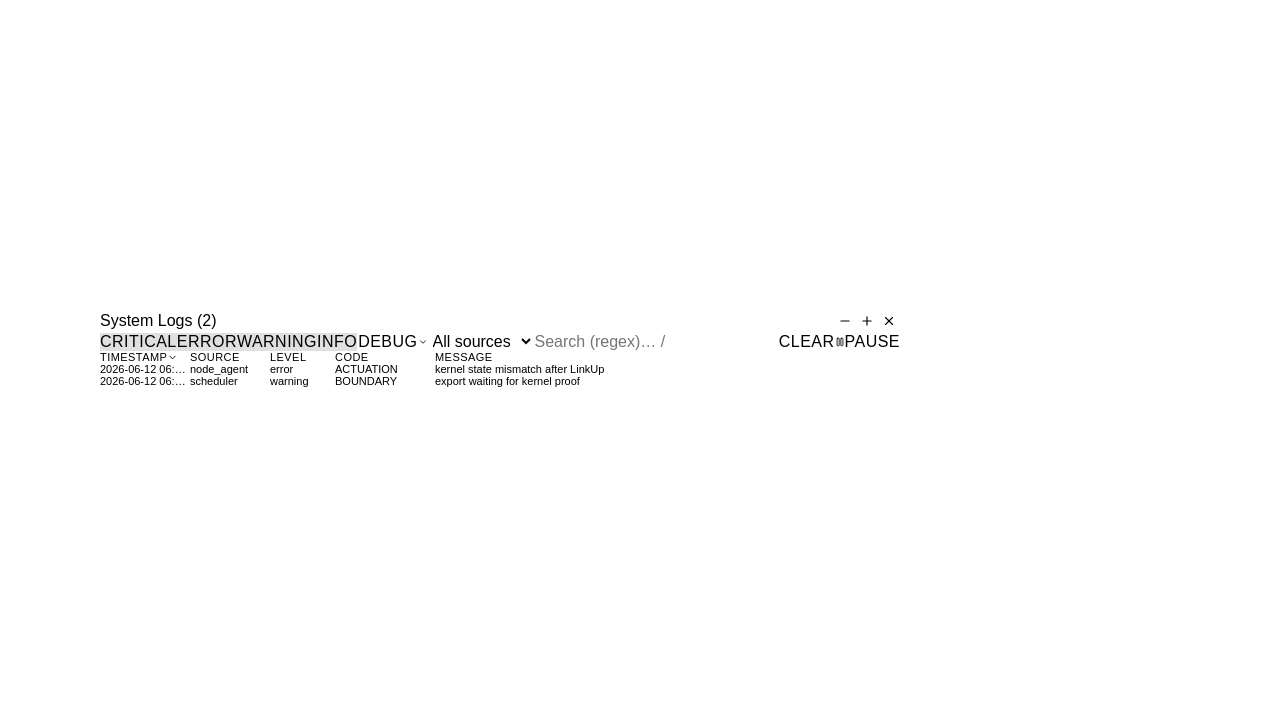
Scenario: LogPanel › level chip toggles filter rows out
Click the button "error".
click(207, 342)  # box [177, 332, 237, 350]
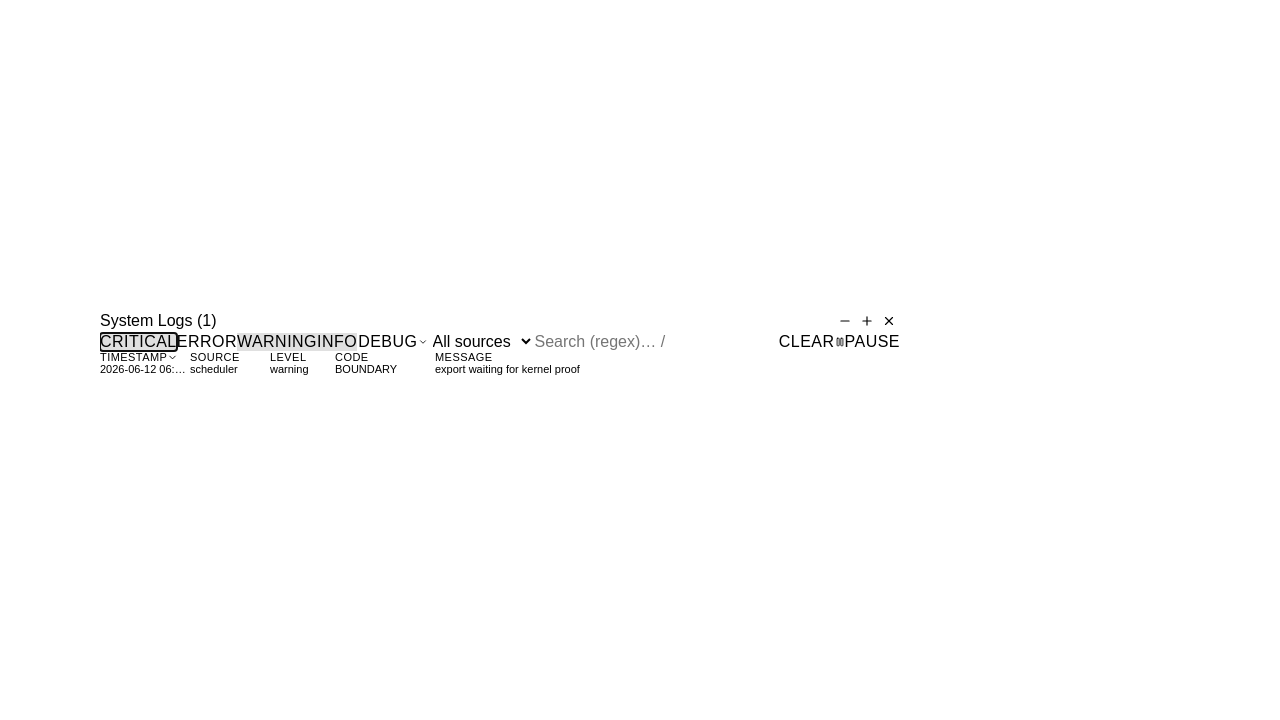
Expected: the text "export waiting for kernel proof" is shown, [435, 363, 580, 375]
Expected: the text "kernel state mismatch" is gone
